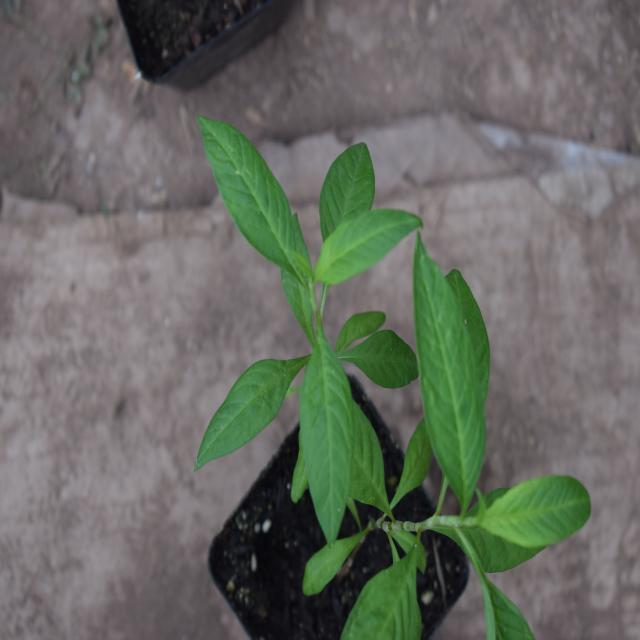white_smart_weed: (164, 96, 412, 513), (397, 254, 570, 624)
